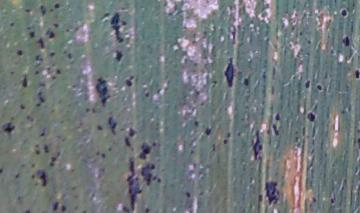tarspot: (125, 154, 143, 212), (109, 12, 129, 44), (138, 162, 162, 187), (94, 75, 112, 107), (264, 178, 280, 206), (251, 128, 264, 162), (223, 56, 236, 88), (136, 142, 152, 160), (35, 167, 48, 189), (226, 23, 238, 45), (107, 114, 118, 136), (1, 121, 16, 136), (33, 52, 44, 69), (112, 49, 125, 63), (122, 136, 134, 151), (20, 70, 29, 89), (305, 110, 317, 124), (124, 74, 136, 88), (340, 34, 351, 48), (35, 90, 46, 104), (271, 122, 280, 139), (37, 3, 47, 18), (125, 126, 137, 138), (44, 28, 56, 40), (34, 37, 45, 50), (48, 155, 58, 169), (303, 78, 312, 91), (353, 67, 360, 82), (100, 11, 109, 22), (203, 126, 211, 138), (329, 192, 336, 205), (257, 192, 264, 205), (339, 8, 348, 18), (25, 113, 35, 122), (66, 51, 73, 63), (315, 83, 324, 92), (59, 203, 67, 213), (224, 130, 232, 140), (52, 200, 59, 211), (29, 29, 36, 40), (31, 69, 42, 76), (210, 141, 217, 152), (241, 77, 249, 86), (273, 112, 281, 121), (310, 194, 318, 203), (183, 190, 191, 199), (52, 1, 61, 9), (143, 90, 151, 99), (305, 37, 313, 46), (23, 6, 31, 15), (21, 207, 32, 213), (43, 142, 49, 153), (95, 124, 103, 132), (83, 106, 91, 114), (51, 21, 59, 29), (15, 49, 24, 56), (37, 131, 46, 138), (33, 147, 40, 156), (55, 67, 62, 76), (48, 50, 55, 59), (329, 47, 336, 56), (37, 82, 47, 88), (356, 134, 360, 148), (193, 119, 200, 127), (222, 138, 229, 146), (297, 30, 304, 38), (8, 21, 16, 28), (64, 26, 71, 34), (235, 130, 242, 138), (100, 151, 106, 160), (189, 147, 195, 156), (143, 206, 150, 213), (151, 141, 158, 148), (90, 106, 97, 113), (30, 162, 37, 169), (19, 103, 25, 111), (106, 146, 113, 152), (32, 142, 39, 148), (13, 173, 20, 179), (19, 162, 26, 168), (95, 150, 100, 158), (287, 41, 292, 49), (9, 70, 16, 75), (80, 209, 88, 213), (30, 174, 35, 180), (1, 167, 4, 176)
